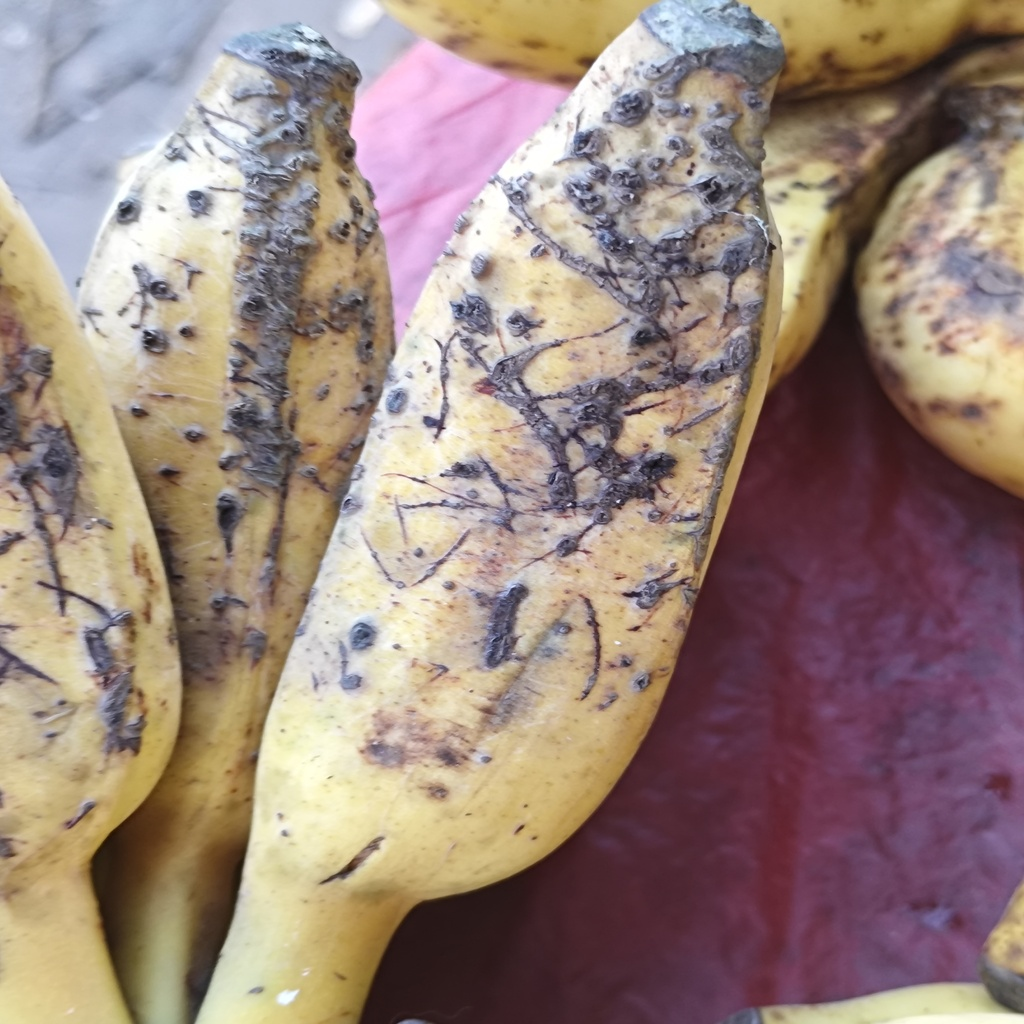unhealthy: (255, 13, 781, 872), (63, 44, 393, 877)
